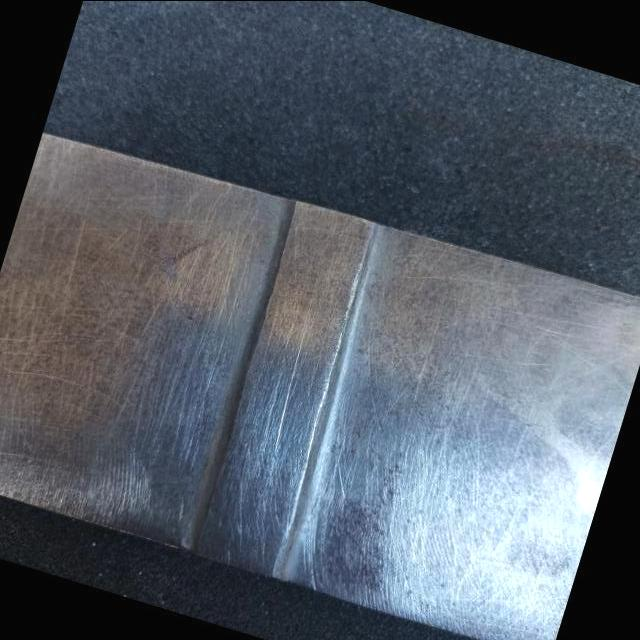defect: (276, 321, 311, 451)
